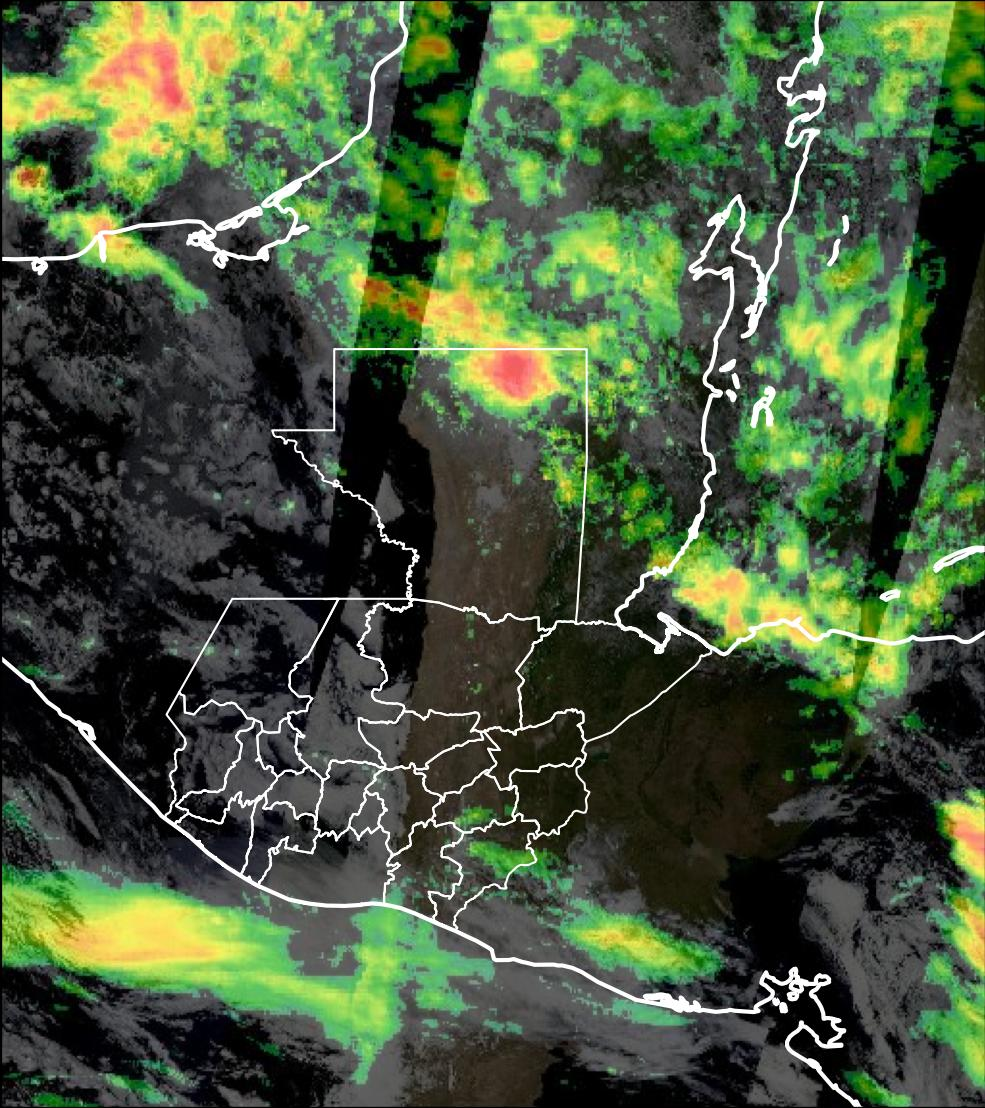precipitacion: (82, 32, 200, 129), (463, 354, 569, 406)
